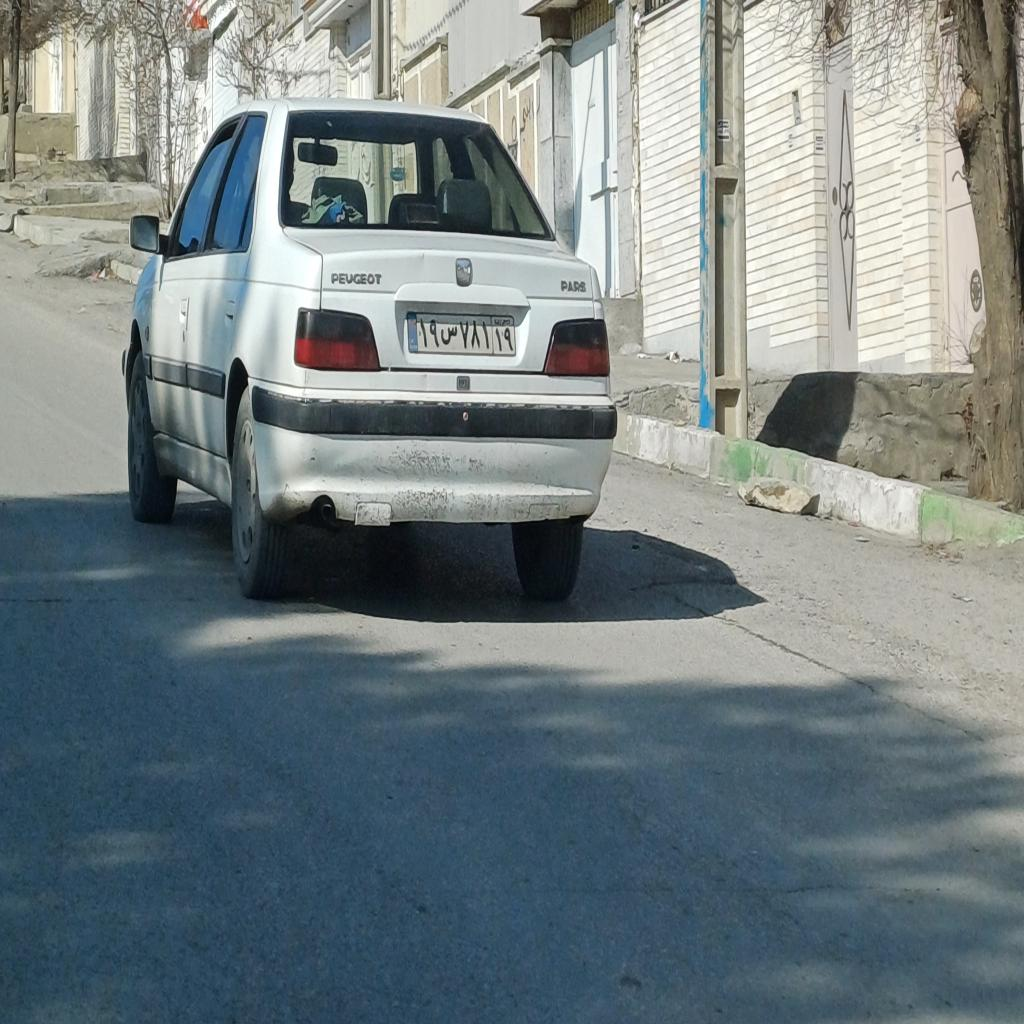Plates: (407, 312, 516, 356)
